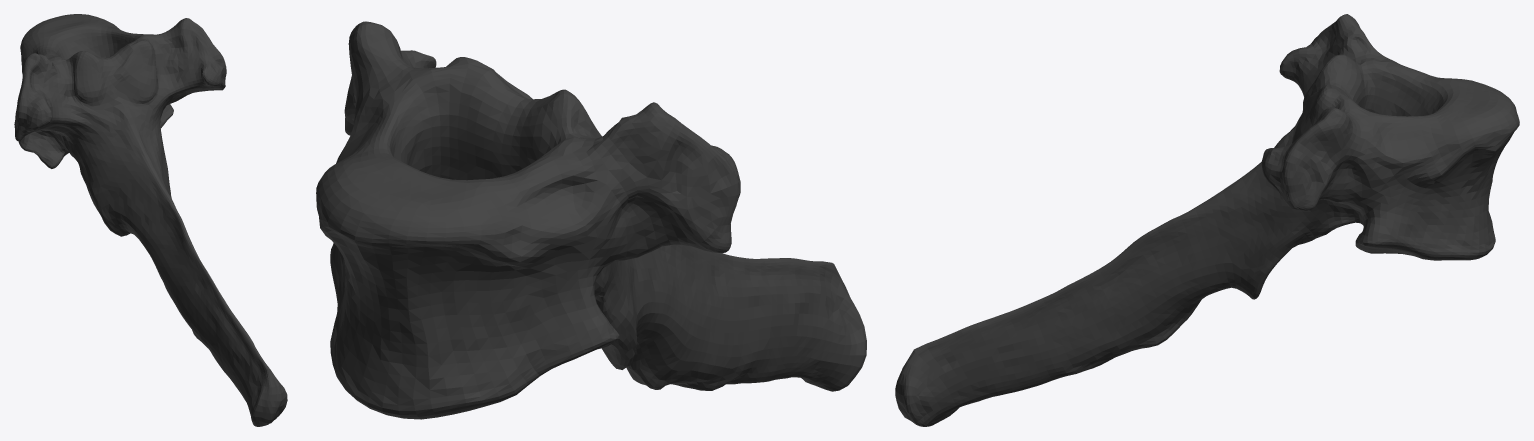
3 views of the same model, side by side, from view 1: azimuth 30°, elevation 25°; view 2: azimuth 150°, elevation 25°; view 3: azimuth 270°, elevation 25° (orthographic). The views are drawn at different scales.
Parts seen in each view (by area): view 1: t6_low; view 2: t6_low; view 3: t6_low.
Part boxes in pixels (x1,y1,x2,y2): t6_low: (14, 14, 287, 426); t6_low: (316, 21, 866, 419); t6_low: (895, 14, 1519, 426).
Bounding box in the file's own units: 35.98 × 47.41 × 72.81.
Materials: 1 (1 with a texture image).
